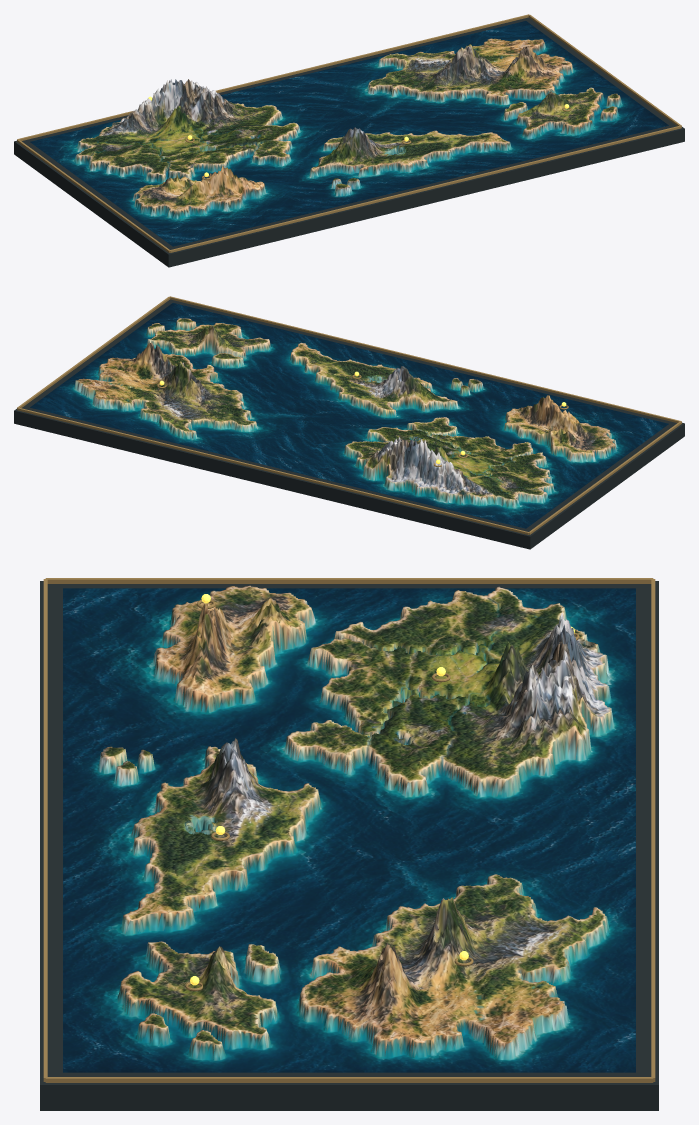
The model's file is eruldin-campaign-map-v3.glb.
The picture shows the model from 3 angles, top to bottom: view 1: azimuth 30°, elevation 25°; view 2: azimuth 150°, elevation 25°; view 3: azimuth 270°, elevation 25°; orthographic projection. The views are drawn at different scales.
Visible parts, largest first — view 1: TEOLAM / original 1025x513 relief sampled 513x257, Map table / independent physical asset, Brass top border, Brass top border.001, Brass side border, Brass side border.001; view 2: TEOLAM / original 1025x513 relief sampled 513x257, Map table / independent physical asset, Brass top border.001, Brass top border, Brass side border, Brass side border.001; view 3: TEOLAM / original 1025x513 relief sampled 513x257, Map table / independent physical asset, Brass side border.001, Brass side border, Brass top border, Brass top border.001.
Part boxes in pixels (left/top/right/bottom): TEOLAM / original 1025x513 relief sampled 513x257: left=30, top=21, right=668, bottom=246; Map table / independent physical asset: left=14, top=17, right=684, bottom=267; Brass top border: left=169, top=126, right=681, bottom=252; Brass top border.001: left=17, top=14, right=528, bottom=140; Brass side border: left=17, top=139, right=169, bottom=252; Brass side border.001: left=528, top=14, right=681, bottom=127; TEOLAM / original 1025x513 relief sampled 513x257: left=30, top=303, right=668, bottom=528; Map table / independent physical asset: left=14, top=299, right=684, bottom=549; Brass top border.001: left=17, top=408, right=529, bottom=534; Brass top border: left=170, top=296, right=681, bottom=422; Brass side border: left=528, top=421, right=681, bottom=534; Brass side border.001: left=17, top=296, right=170, bottom=409; TEOLAM / original 1025x513 relief sampled 513x257: left=63, top=585, right=635, bottom=1072; Map table / independent physical asset: left=40, top=581, right=658, bottom=1110; Brass side border.001: left=45, top=1077, right=653, bottom=1082; Brass side border: left=45, top=578, right=653, bottom=583; Brass top border: left=43, top=579, right=47, bottom=1081; Brass top border.001: left=651, top=579, right=655, bottom=1081.
Size of the model in its own units: 20.8 by 2.35 by 10.8.
9 materials, 1 textured.
